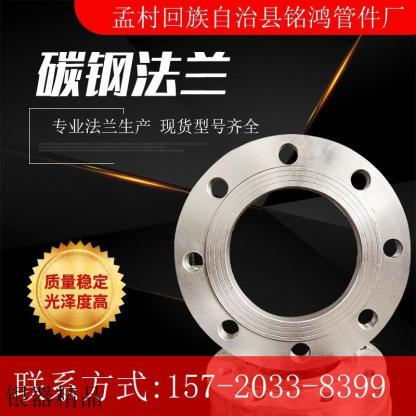FOD: (172, 132, 415, 374)
